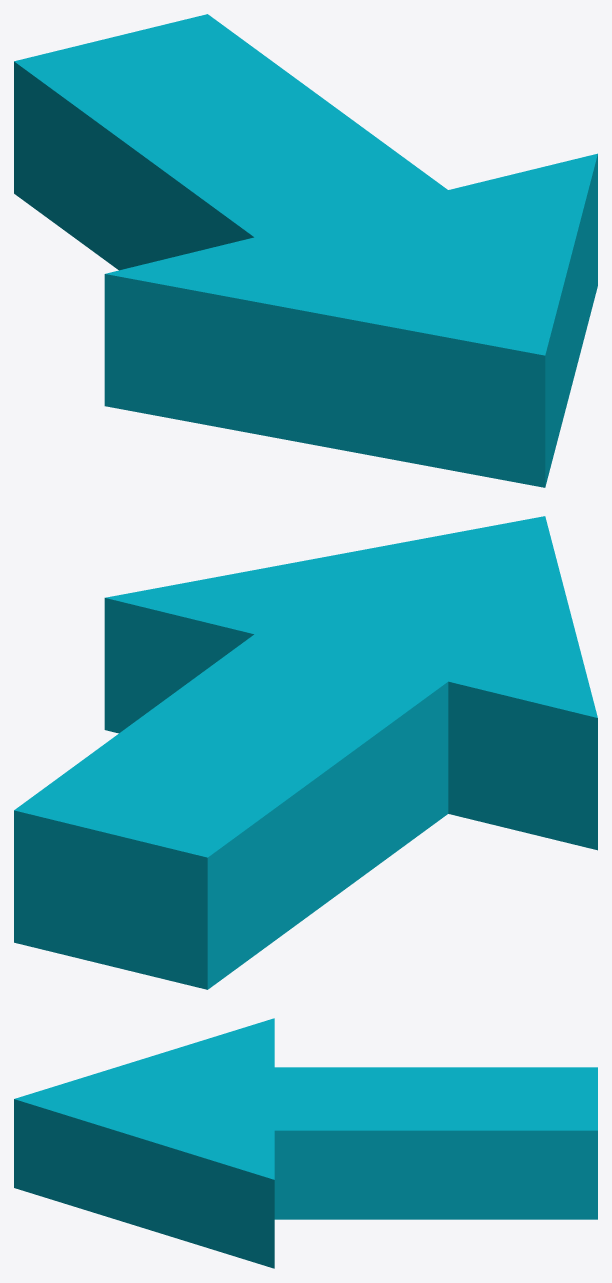
The model's file is Arrowtoon.fbx.
3 views of the same model, one above another, from view 1: azimuth 30°, elevation 25°; view 2: azimuth 150°, elevation 25°; view 3: azimuth 270°, elevation 25° (orthographic). The views are drawn at different scales.
Parts seen in each view (by area): view 1: Arrow; view 2: Arrow; view 3: Arrow.
Boxes of the visible parts, x1,y1,x2,y2 form: Arrow: (14, 14, 597, 487); Arrow: (14, 516, 597, 989); Arrow: (14, 1018, 597, 1268).
Bounding box in the file's own units: 2.32 × 0.5943 × 3.54.
Materials: 1 (1 with a texture image).
